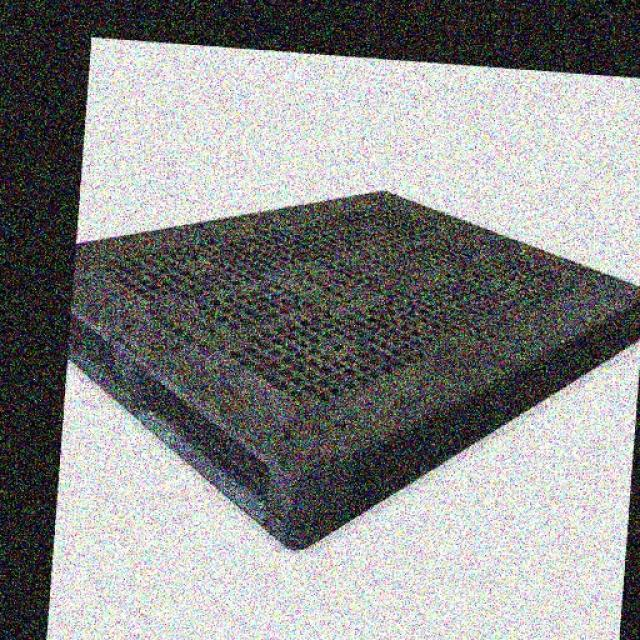non-igps: (65, 188, 640, 554)
